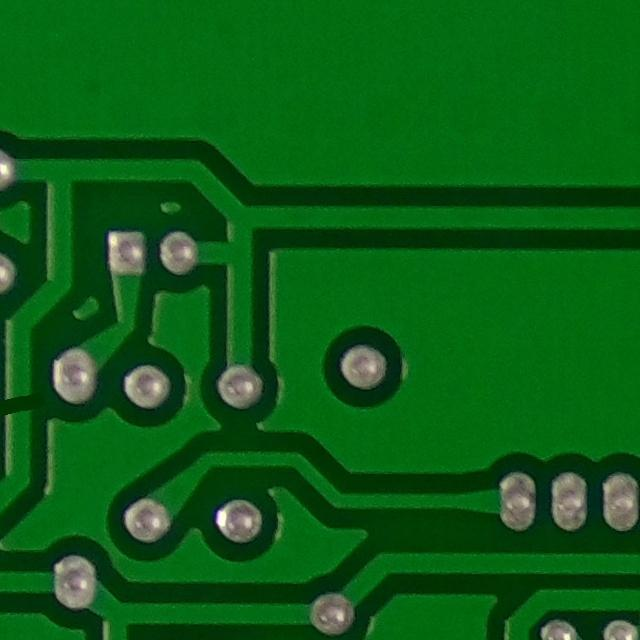open_circuit: (0, 379, 44, 426)
